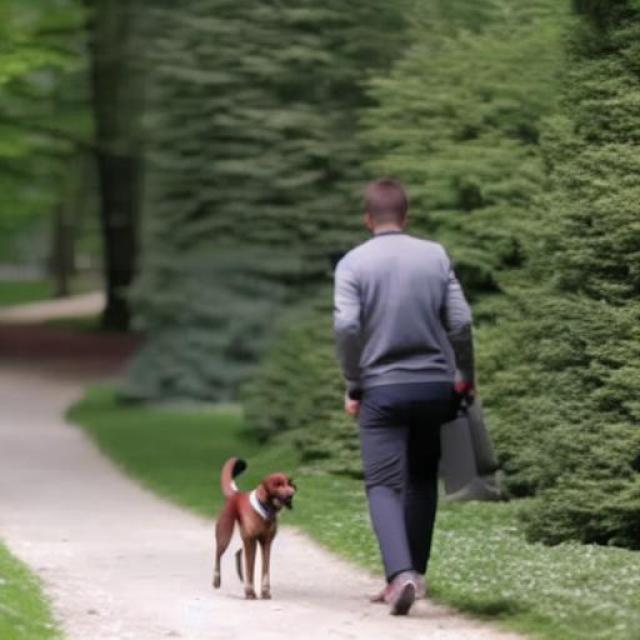Unleashed_Dog: (211, 384, 450, 600)
